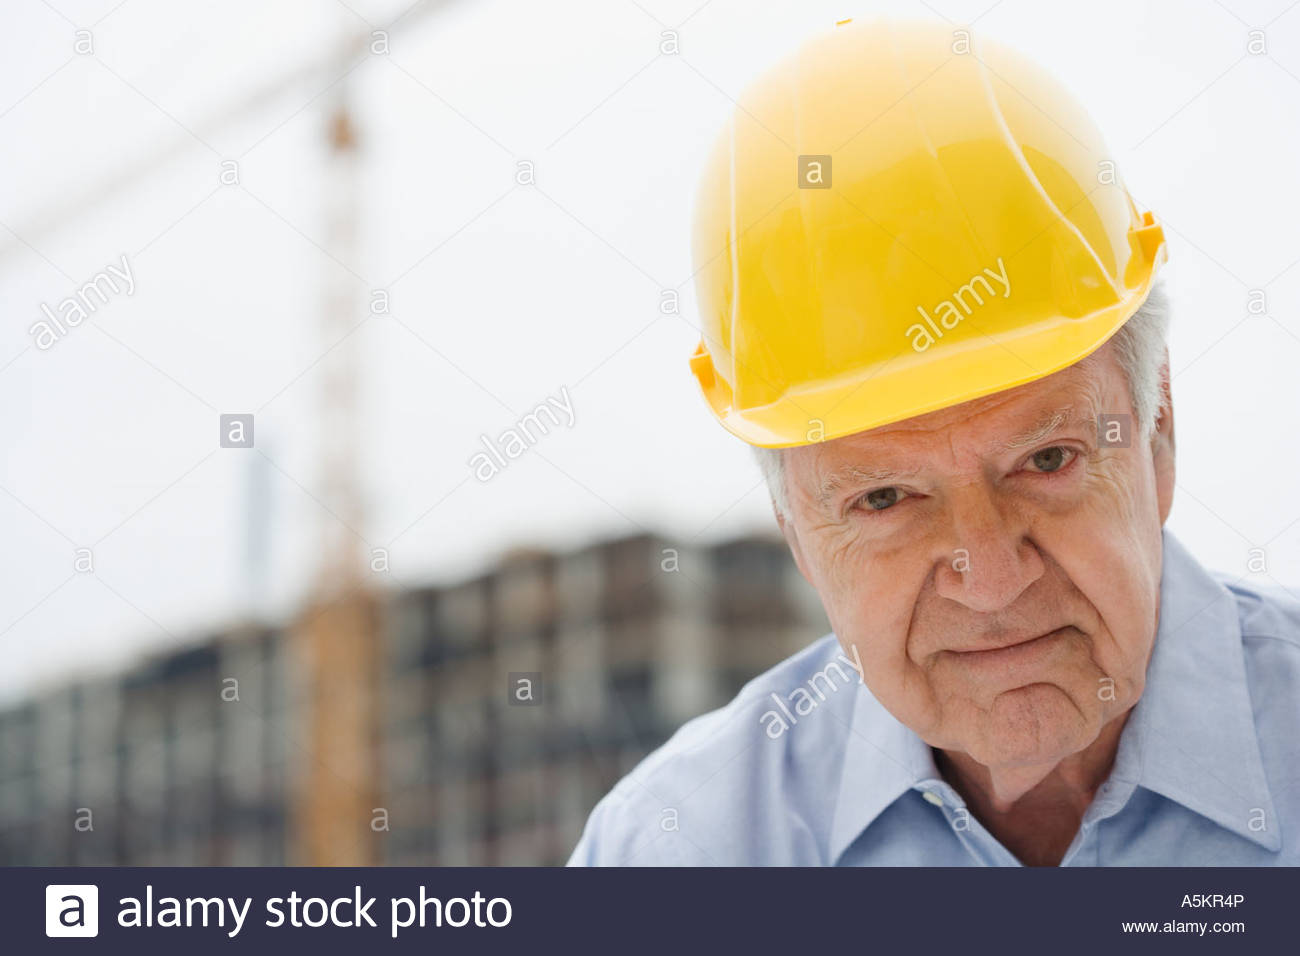Person_wearing_helmet: (707, 4, 1165, 594)
